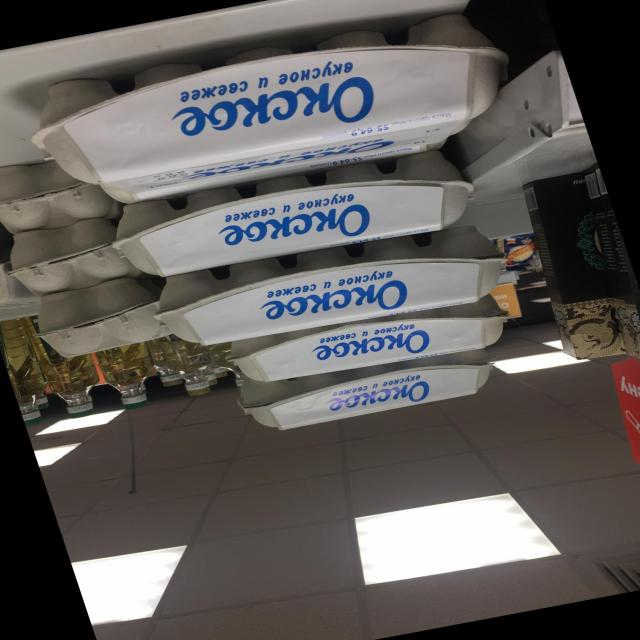organic waste: (13, 0, 521, 212), (100, 139, 492, 289), (141, 218, 512, 357), (225, 292, 516, 393), (235, 342, 508, 438), (24, 272, 178, 374), (0, 215, 140, 299), (21, 306, 115, 429), (0, 151, 115, 240), (145, 327, 231, 409), (0, 314, 56, 432), (92, 341, 168, 417)
